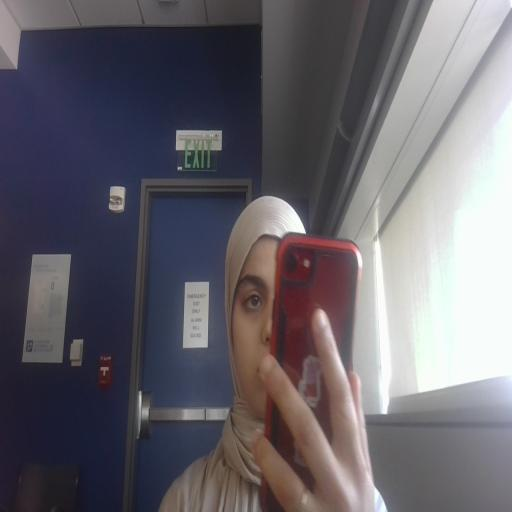phone: (258, 211, 378, 512)
